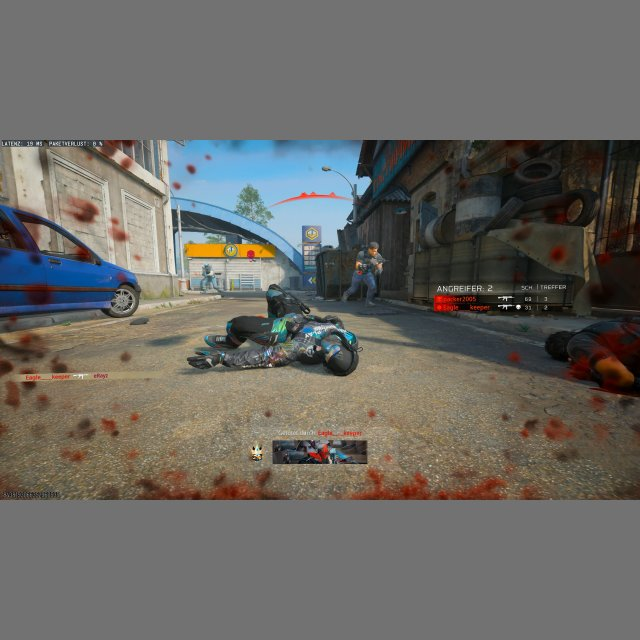head: (324, 343, 358, 376), (368, 242, 380, 255)
player: (341, 241, 386, 307), (200, 262, 217, 294)
